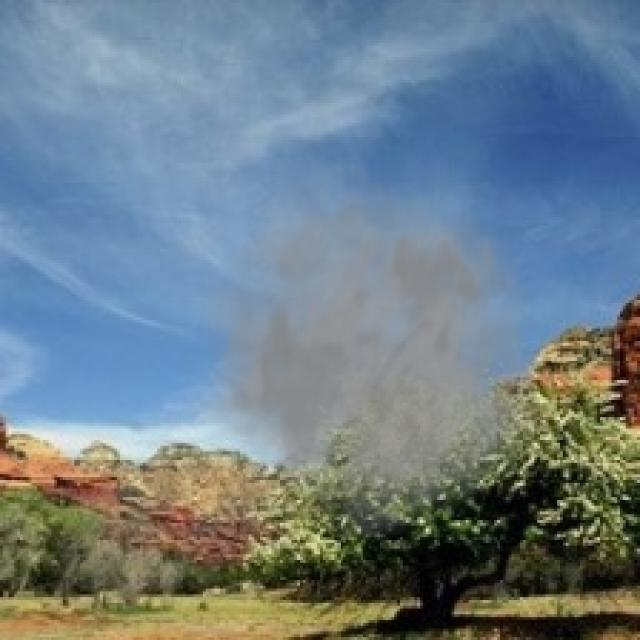smoke: (183, 154, 548, 540)
